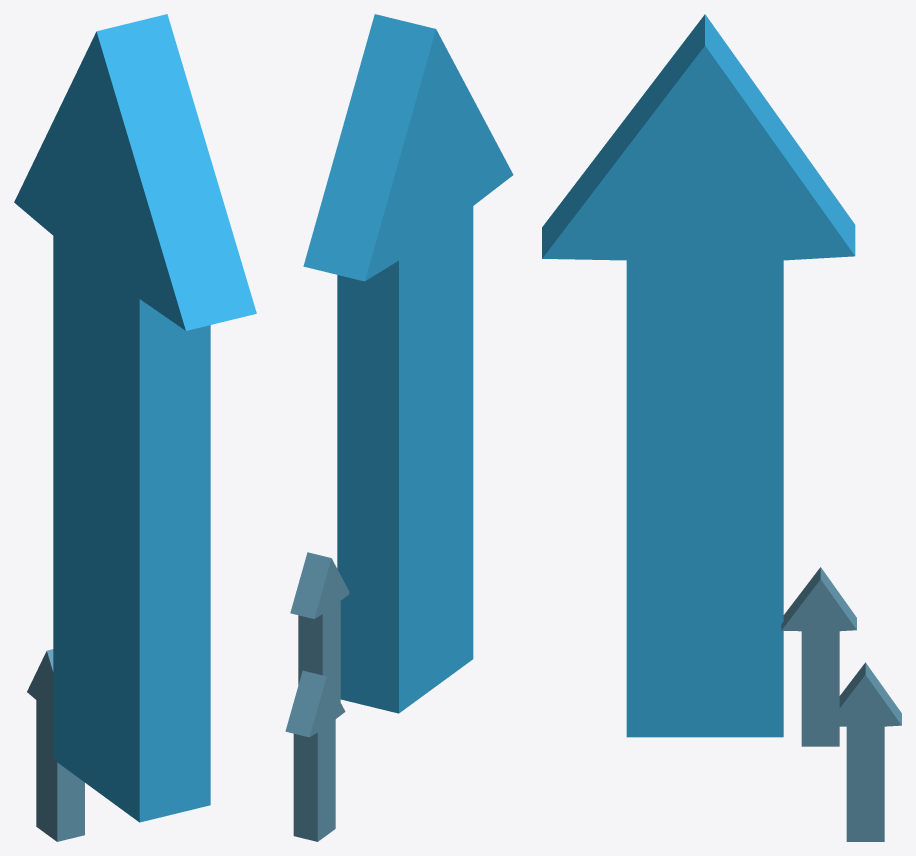
The model's file is Upppp.fbx.
3 views of the same model, side by side, from view 1: azimuth 30°, elevation 25°; view 2: azimuth 150°, elevation 25°; view 3: azimuth 270°, elevation 25° (orthographic). The views are drawn at different scales.
Parts seen in each view (by area): view 1: Cube.002, Cube.007; view 2: Cube.002, Cube.007, Cube.003; view 3: Cube.002, Cube.003, Cube.007.
Part boxes in pixels (box(x1,y1,x2,y2)): Cube.002: box(14, 14, 256, 822); Cube.007: box(27, 649, 84, 841); Cube.002: box(303, 14, 513, 713); Cube.007: box(285, 670, 345, 841); Cube.003: box(290, 552, 349, 701); Cube.002: box(542, 14, 855, 737); Cube.003: box(781, 567, 856, 746); Cube.007: box(839, 662, 901, 841).
Bounding box in the file's own units: 20.26 × 199 × 81.29.
